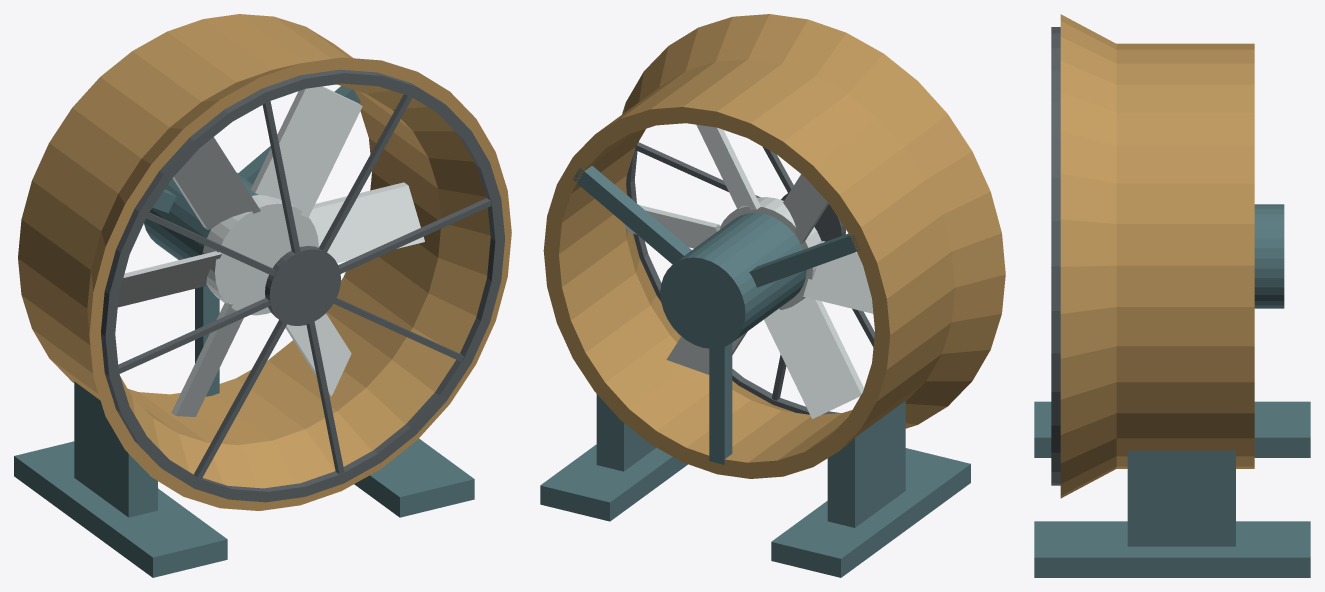
The picture shows the model from 3 angles, left to right: view 1: azimuth 30°, elevation 25°; view 2: azimuth 150°, elevation 25°; view 3: azimuth 270°, elevation 25°; orthographic projection. The views are drawn at different scales.
Parts seen in each view (by area): view 1: WholeFlaredOpenAnnularHousing, WholeFrontGrilleRim, WholeGroundSkid_-0.38, WholePitchedRotorBlade_01, WholeFrontRotorHub, WholeCasingSaddle_-0.38, WholeGroundSkid_0.38, WholePitchedRotorBlade_00, WholeFrontGrilleCentre, WholePitchedRotorBlade_02, WholePitchedRotorBlade_03, WholePitchedRotorBlade_04 (+12 smaller); view 2: WholeFlaredOpenAnnularHousing, WholeFixedCentralMotorPod, WholeGroundSkid_-0.38, WholePitchedRotorBlade_04, WholeCasingSaddle_-0.38, WholeGroundSkid_0.38, RearMotorStatorSupport_00, WholePitchedRotorBlade_03, RearMotorStatorSupport_02, WholeCasingSaddle_0.38, RearMotorStatorSupport_01, WholePitchedRotorBlade_01 (+7 smaller); view 3: WholeFlaredOpenAnnularHousing, WholeGroundSkid_0.38, WholeCasingSaddle_0.38, WholeFrontGrilleRim, WholeGroundSkid_-0.38, WholeFixedCentralMotorPod.
Part boxes in pixels (x1,y1,x2,y2): WholeFlaredOpenAnnularHousing: (18,14,511,510); WholeFrontGrilleRim: (101,69,504,502); WholeGroundSkid_-0.38: (14,441,227,577); WholePitchedRotorBlade_01: (250,86,362,217); WholeFrontRotorHub: (202,195,318,315); WholeCasingSaddle_-0.38: (74,381,157,517); WholeGroundSkid_0.38: (354,438,474,517); WholePitchedRotorBlade_00: (309,182,424,263); WholeFrontGrilleCentre: (265,246,340,325); WholePitchedRotorBlade_02: (172,137,260,229); WholePitchedRotorBlade_03: (117,251,221,307); WholePitchedRotorBlade_04: (171,302,243,416); WholeFlaredOpenAnnularHousing: (543,14,1005,478); WholeFixedCentralMotorPod: (660,212,806,348); WholeGroundSkid_-0.38: (771,448,970,577); WholePitchedRotorBlade_04: (764,297,863,418); WholeCasingSaddle_-0.38: (827,401,905,527); WholeGroundSkid_0.38: (540,444,687,521); RearMotorStatorSupport_00: (572,165,691,264); WholePitchedRotorBlade_03: (803,241,873,313); RearMotorStatorSupport_02: (709,343,732,464); WholeCasingSaddle_0.38: (596,394,656,471); RearMotorStatorSupport_01: (749,233,860,287); WholePitchedRotorBlade_01: (696,124,760,209); WholeFlaredOpenAnnularHousing: (1060,14,1254,498); WholeGroundSkid_0.38: (1034,521,1310,577); WholeCasingSaddle_0.38: (1127,450,1235,546); WholeFrontGrilleRim: (1051,27,1060,485); WholeGroundSkid_-0.38: (1034,401,1310,457); WholeFixedCentralMotorPod: (1254,204,1284,308).
Bounding box in the file's own units: 1.3 × 1.37 × 0.74.
